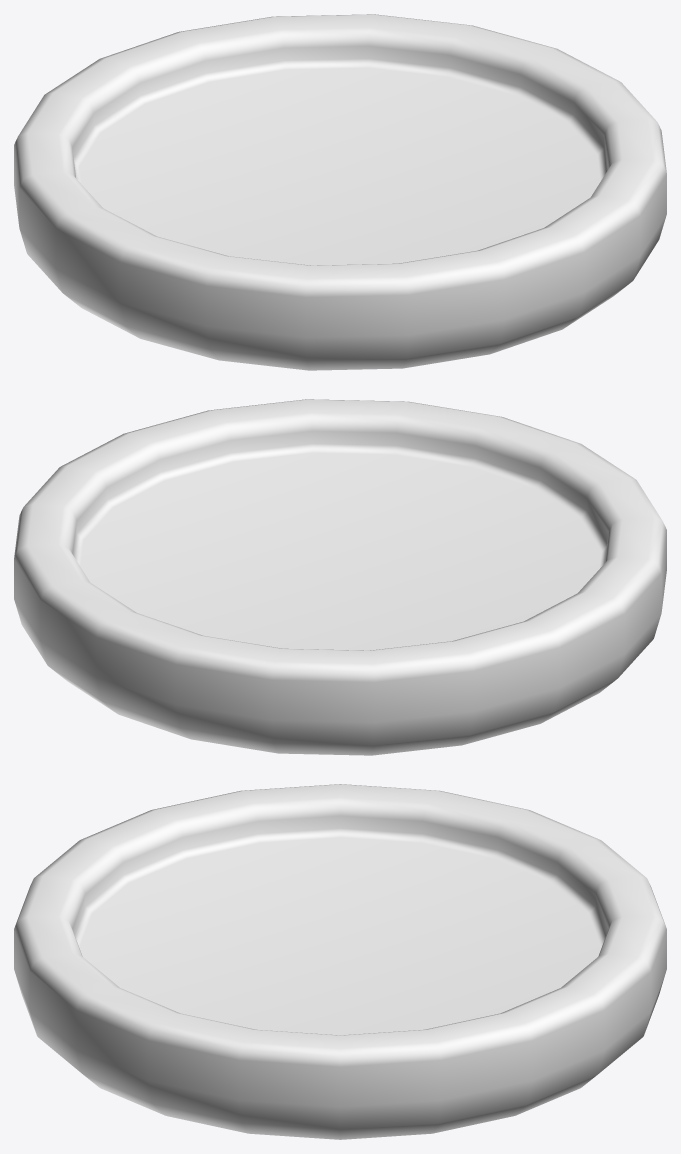
The model's file is plate.glb.
3 views of the same model, one above another, from view 1: azimuth 30°, elevation 25°; view 2: azimuth 150°, elevation 25°; view 3: azimuth 270°, elevation 25° (orthographic).
Visible parts, largest first — view 1: Plate; view 2: Plate; view 3: Plate.
Part boxes in pixels (x1=…): Plate: x1=14, y1=14, x2=666, y2=370; Plate: x1=14, y1=399, x2=666, y2=755; Plate: x1=14, y1=784, x2=666, y2=1139.
Size of the model in its own units: 0.2648 by 0.0468 by 0.2648.
1 material, 1 textured.
